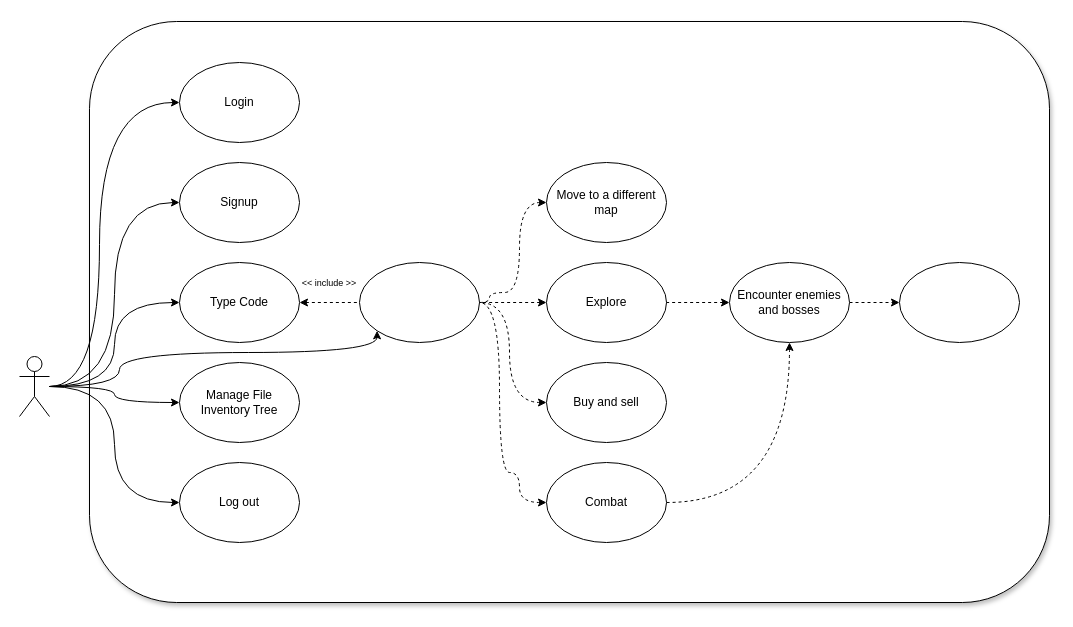
The diagram is 1073 pixels wide and 627 high, and some of its shapes have lost their labels. Each missing label, with the centre of its shape:
"Execute Code" goes at point (419, 302).
"Player" goes at point (34, 386).
"Receive rewards and feedback" goes at point (959, 302).
